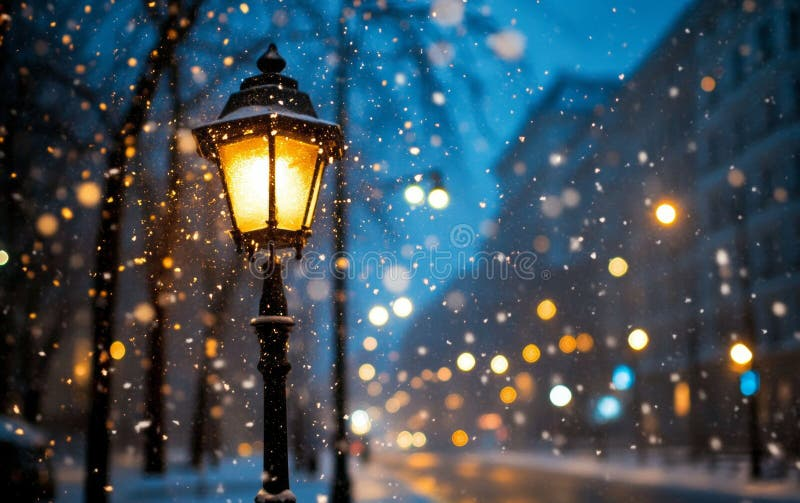Lamp: (176, 37, 372, 503)
